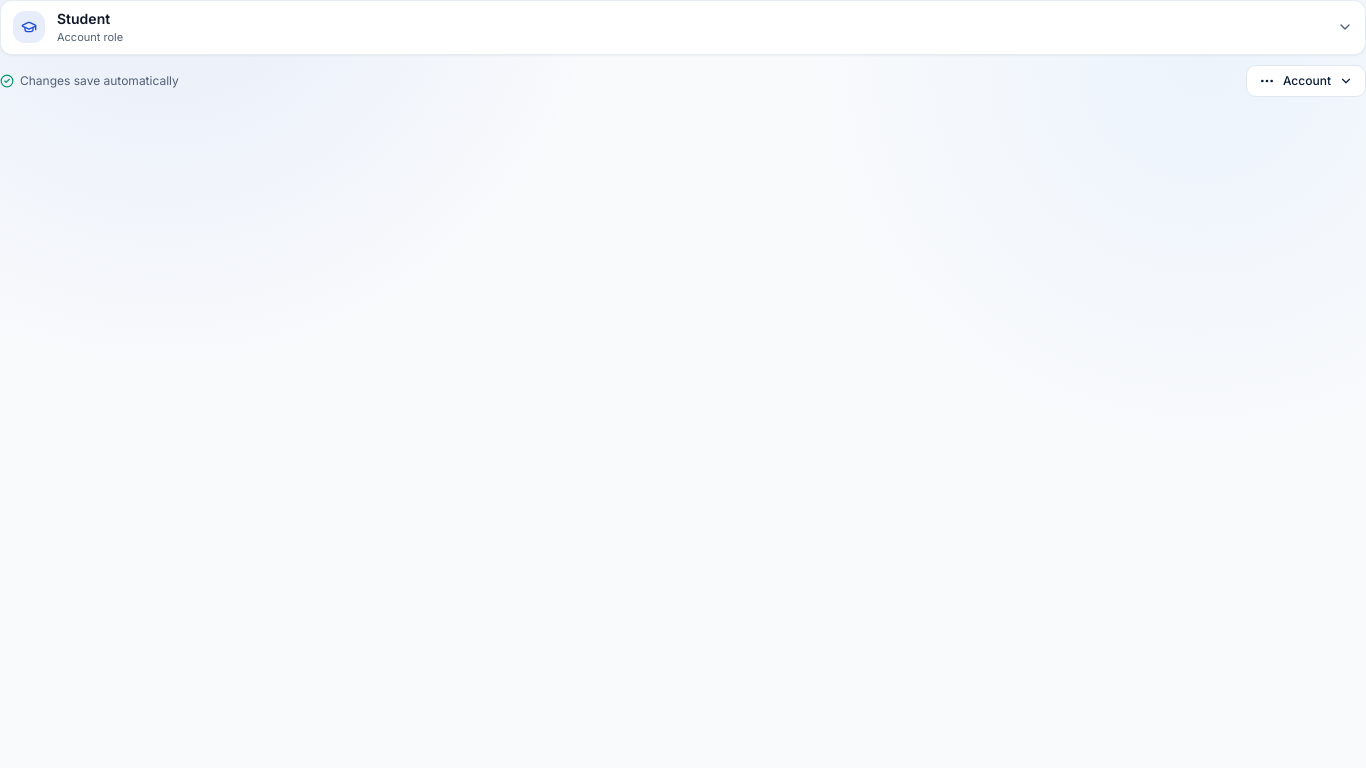
Test: UserRoleEditor sponsor choices › opens identity confirmation immediately and restores the role when it is canceled
Press ArrowDown in the dropdown named "role for teacher", box 0,0 -> 1365,54
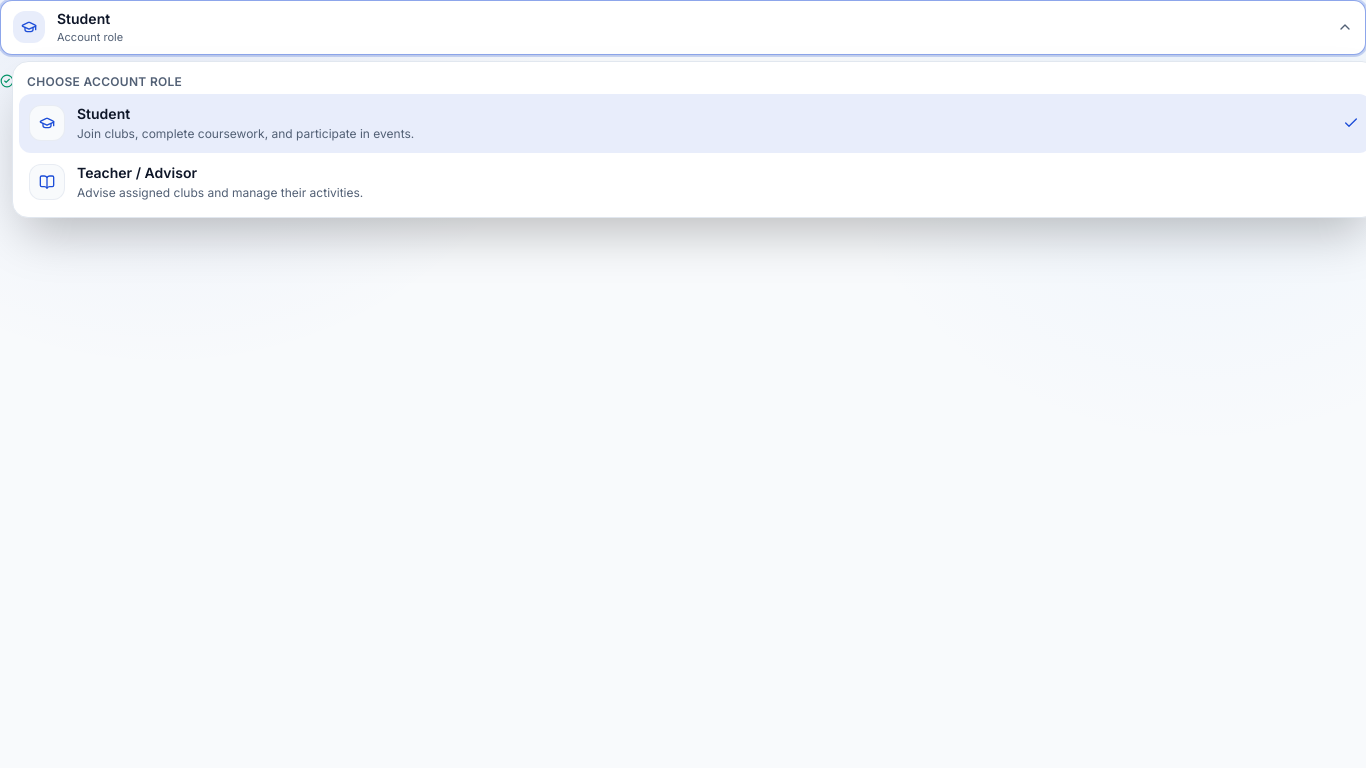
Click the option that starts with "Teacher / Advisor". click: (196, 182)
box: 29,164 -> 363,200
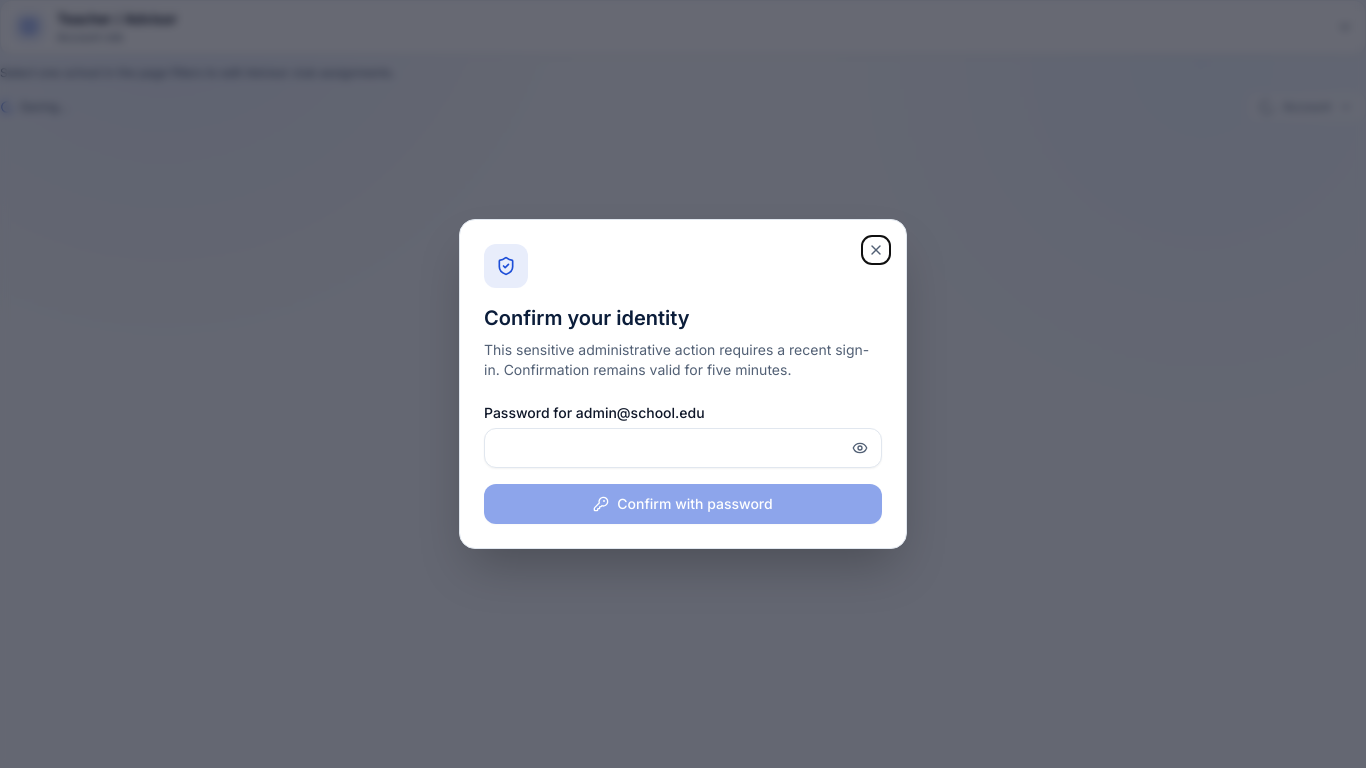
Result: the dialog is shown at 459,219 -> 907,549
Result: the heading "Confirm your identity" is shown at 484,306 -> 690,330
Result: the password field labelled "Password for admin@school.edu" is shown at 484,428 -> 882,468
Click the button named "close identity confirmation". click: (876, 250)
box: 862,236 -> 890,264
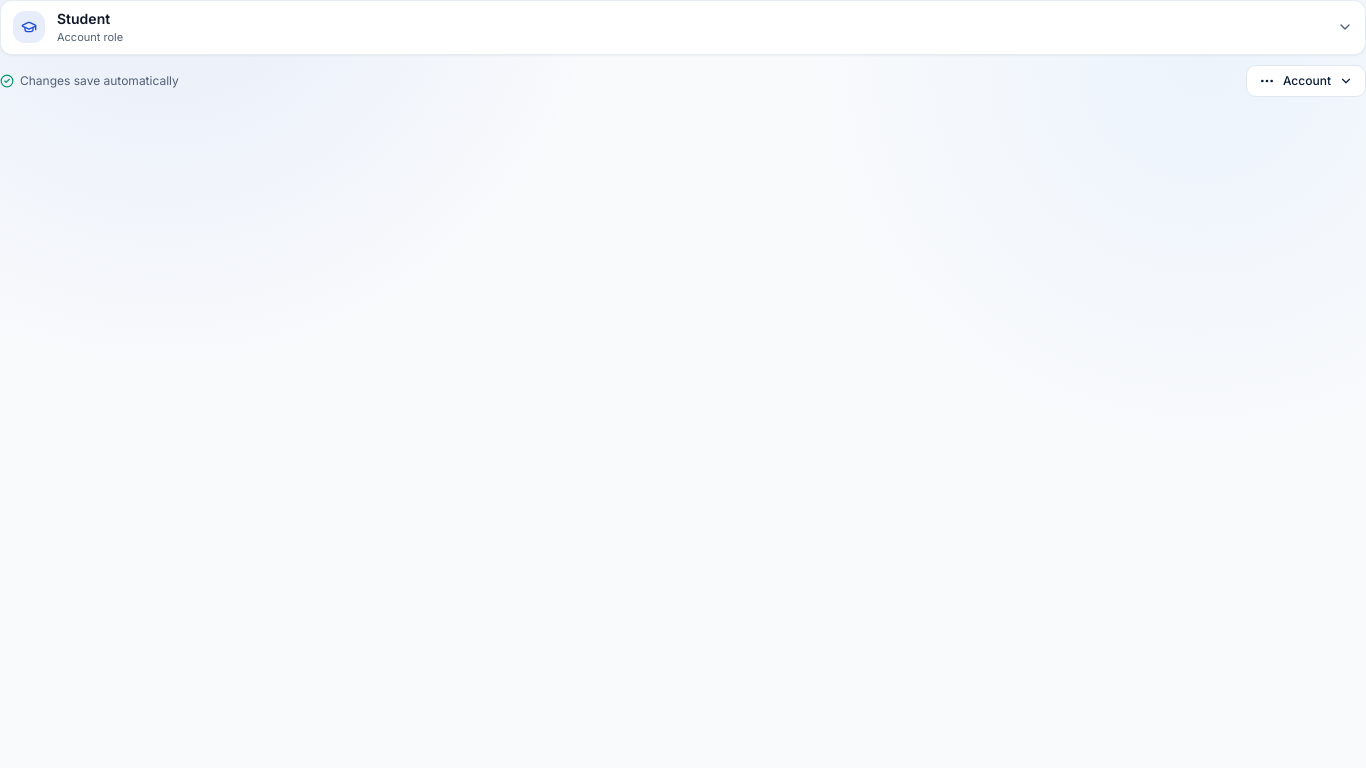
Result: the dialog is gone
Result: the dropdown named "role for teacher" shows "Student" at 0,0 -> 1365,54
